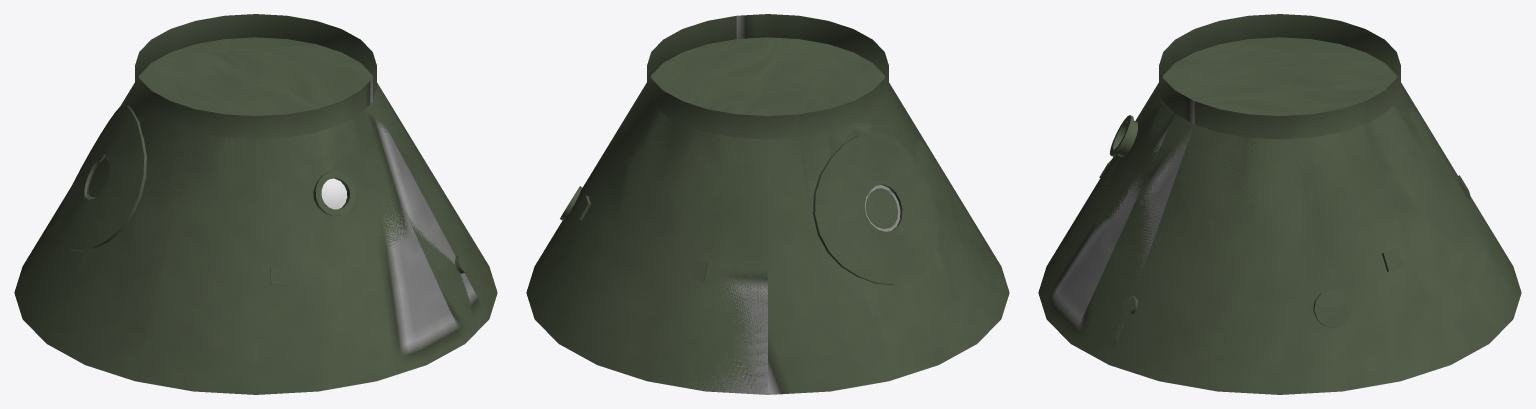
Rendered from crew.fbx.
3 renders of one model, left to right at view 1: azimuth 30°, elevation 25°; view 2: azimuth 150°, elevation 25°; view 3: azimuth 270°, elevation 25°, orthographic.
Visible parts, largest first — view 1: mesh, basenrm, window; view 2: mesh, basenrm; view 3: basenrm, mesh.
Part boxes in pixels (box(x1,y1,x2,y2)): mesh: box(14, 37, 488, 394); basenrm: box(45, 14, 497, 335); window: box(321, 178, 347, 209); mesh: box(560, 37, 1009, 394); basenrm: box(526, 14, 984, 394); basenrm: box(1090, 14, 1521, 394); mesh: box(1038, 37, 1470, 394).
Bounding box in the file's own units: 1.88 × 0.975 × 1.88.
